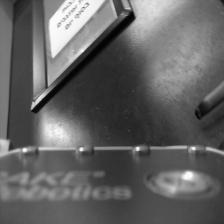Door Handle: (193, 73, 224, 128)
